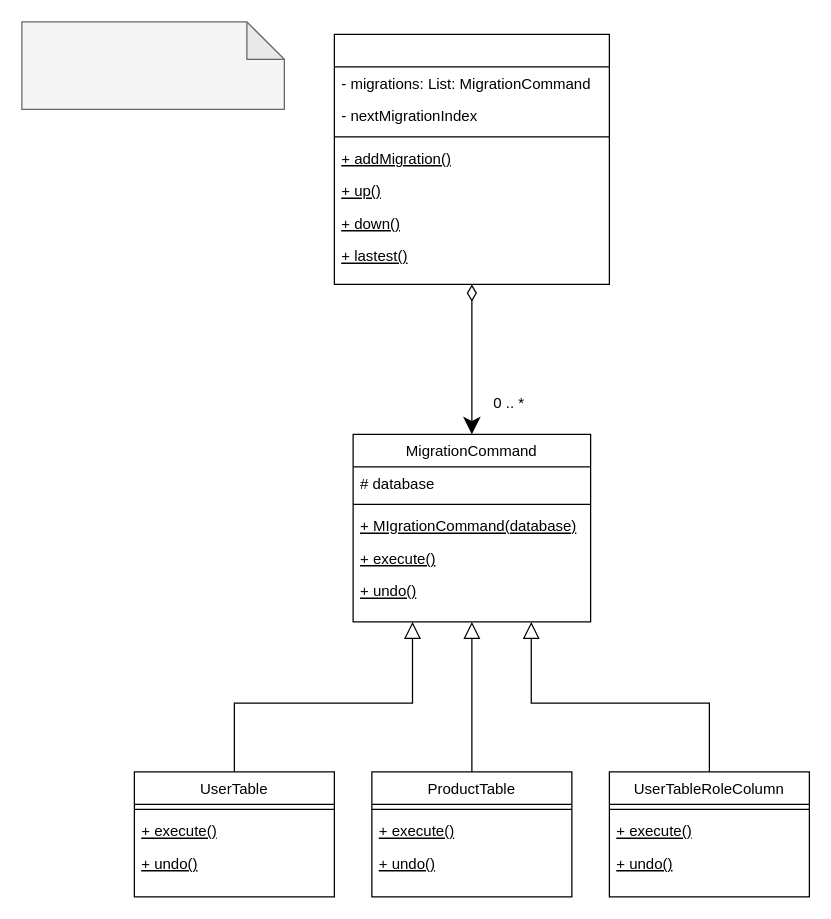
This 831x919 diagram has some shape labels left out. The shapes that lost their labels are listed below. From the top down, each one's box as (x1, y1, x2, y2) in pixels, then its label:
(21, 21, 284, 109): Command Migrations
(333, 33, 609, 284): MigrationTool
